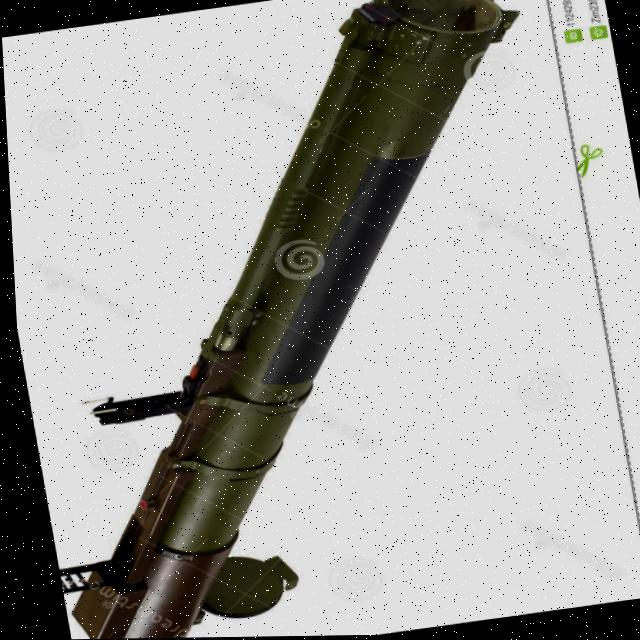rocket: (0, 0, 612, 640)
